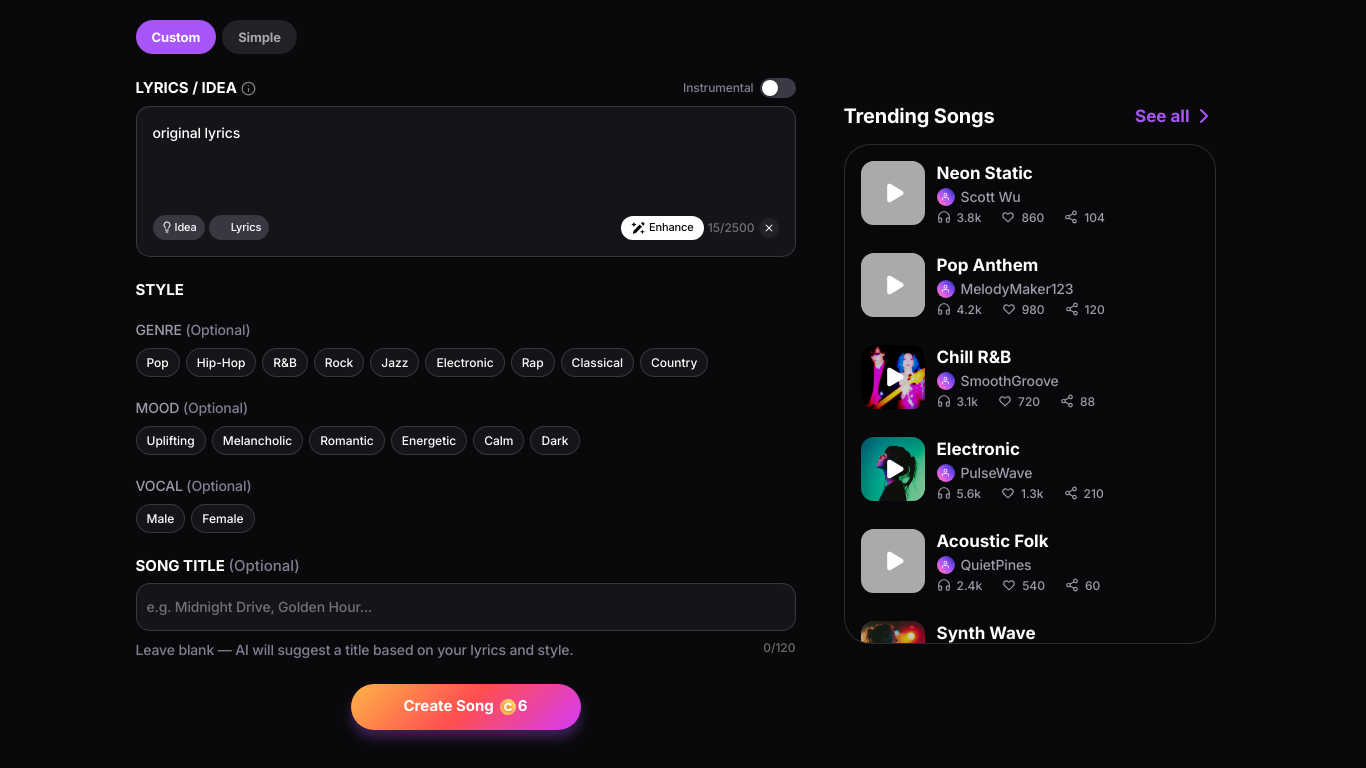
Song Enhance error presentation › keeps custom input on an unsupported-language error (instrumental false, direction Refine Idea)
The image size is (1366, 768).
Click the button "Enhance": (662,228) 621,216 -> 704,240
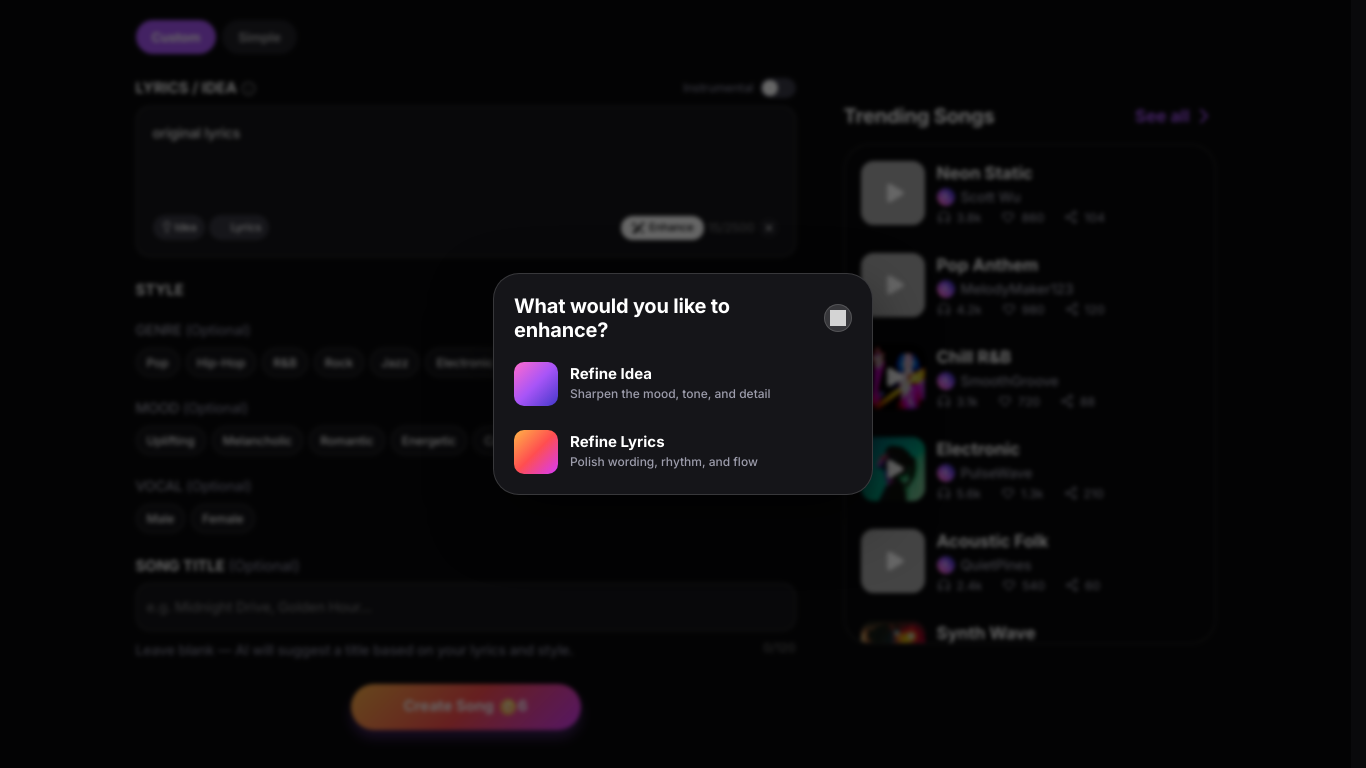
Click the button "Refine Idea Sharpen the mood, tone, and detail": (683,384) 506,354 -> 860,414
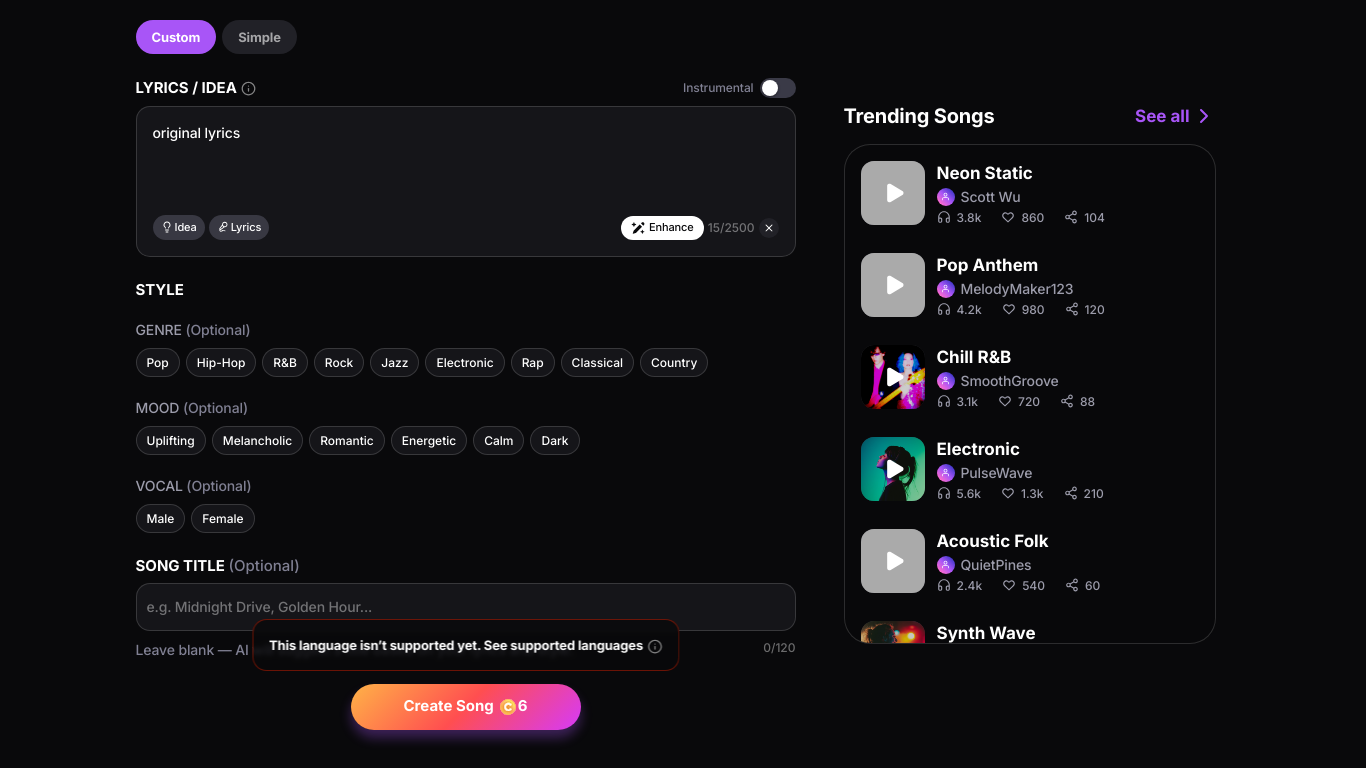
Result: the message shows "This language isn’t supported yet." at 269,637 -> 481,653
Click the button named "Supported languages" next to "languages": (654,646) 647,639 -> 662,654
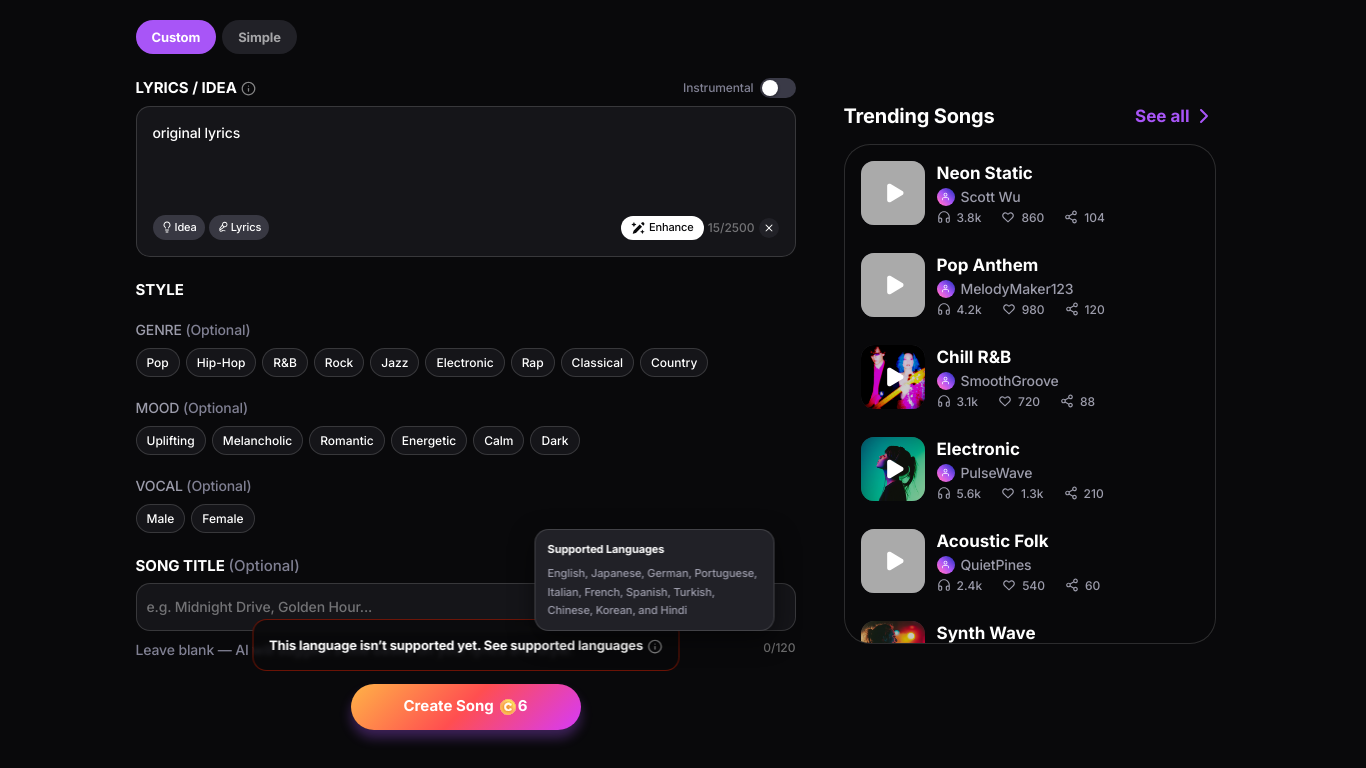
Expected: the text box holds "original lyrics", 152,123 -> 778,207
Result: the tooltip shows "English, Japanese, German, Portuguese, Italian, French, Spanish, Turkish, Chinese, Korean, and Hindi" at 548,566 -> 757,617
